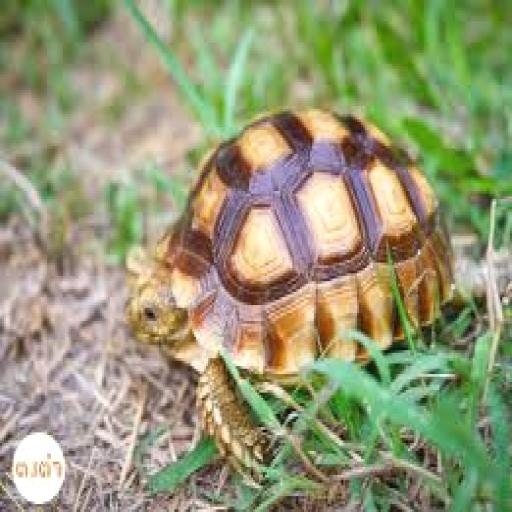turtle: (113, 100, 462, 476)
